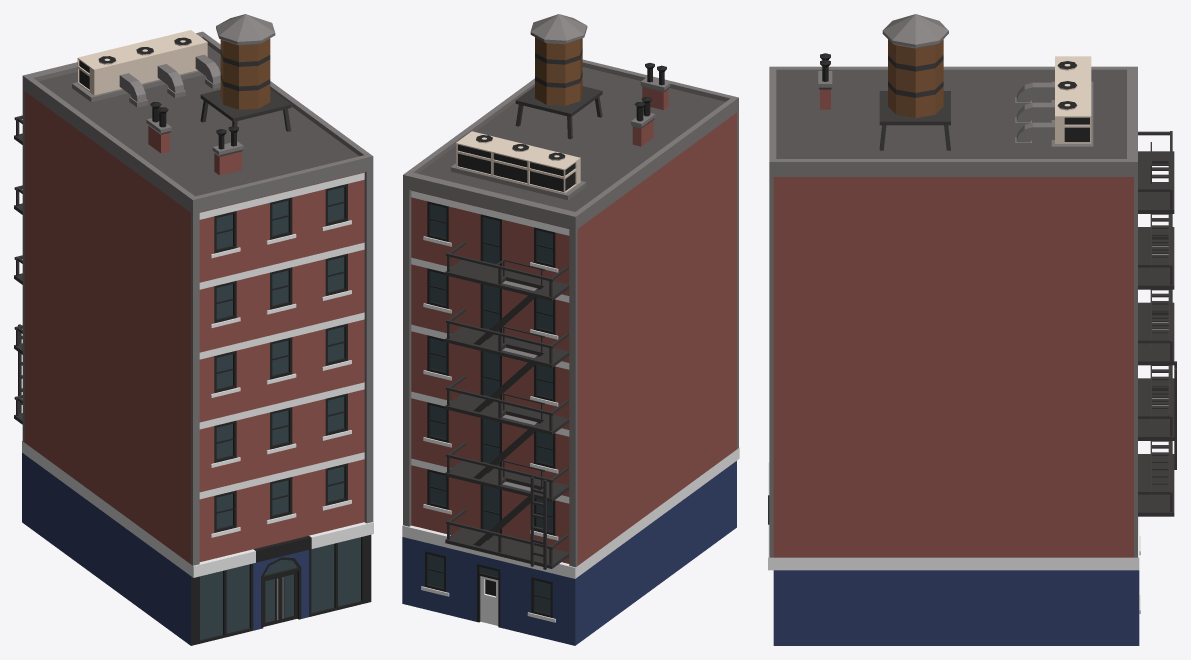
File: buildings_building-block-5floor-short.fbx
The picture shows the model from 3 angles, left to right: view 1: azimuth 30°, elevation 25°; view 2: azimuth 150°, elevation 25°; view 3: azimuth 270°, elevation 25°; orthographic projection. The views are drawn at different scales.
Parts seen in each view (by area): view 1: buildings_building_block_5floor_short; view 2: buildings_building_block_5floor_short; view 3: buildings_building_block_5floor_short.
Boxes of the visible parts, bbox=[...] form: buildings_building_block_5floor_short: bbox=[14, 14, 373, 645]; buildings_building_block_5floor_short: bbox=[402, 14, 739, 645]; buildings_building_block_5floor_short: bbox=[768, 14, 1176, 645].
Bounding box in the file's own units: 68.06 × 200 × 123.
